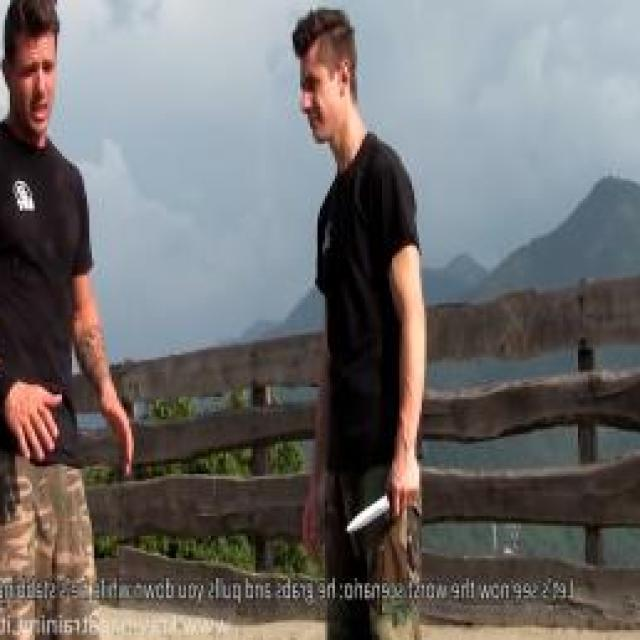knife: (340, 469, 424, 543)
